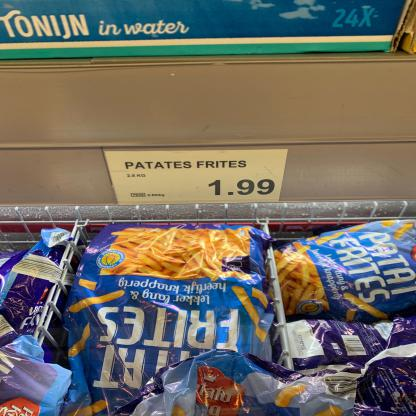prtg: (106, 150, 291, 207)
